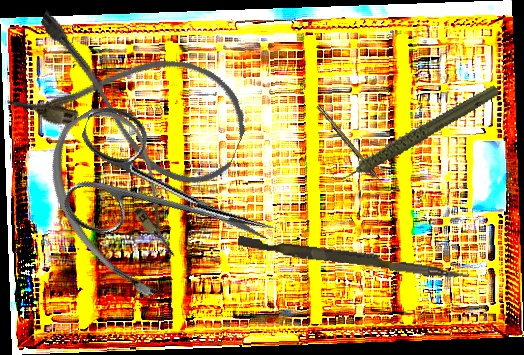Cannula: (4, 2, 262, 198), (23, 93, 218, 313)
Handpiece: (318, 83, 511, 185)
Hook Surgical: (316, 104, 387, 190)
Iris Scissors: (52, 100, 293, 289)
Pusher: (236, 235, 470, 281)
